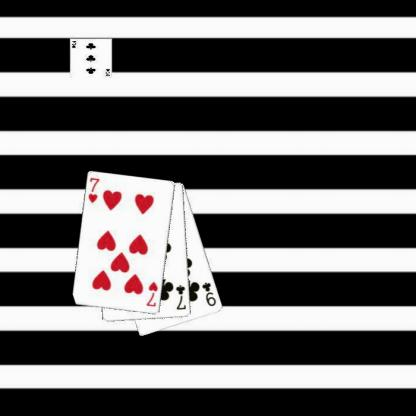7C: (174, 282, 187, 312)
7H: (144, 279, 159, 308), (86, 176, 101, 204)
9C: (200, 279, 218, 308)
